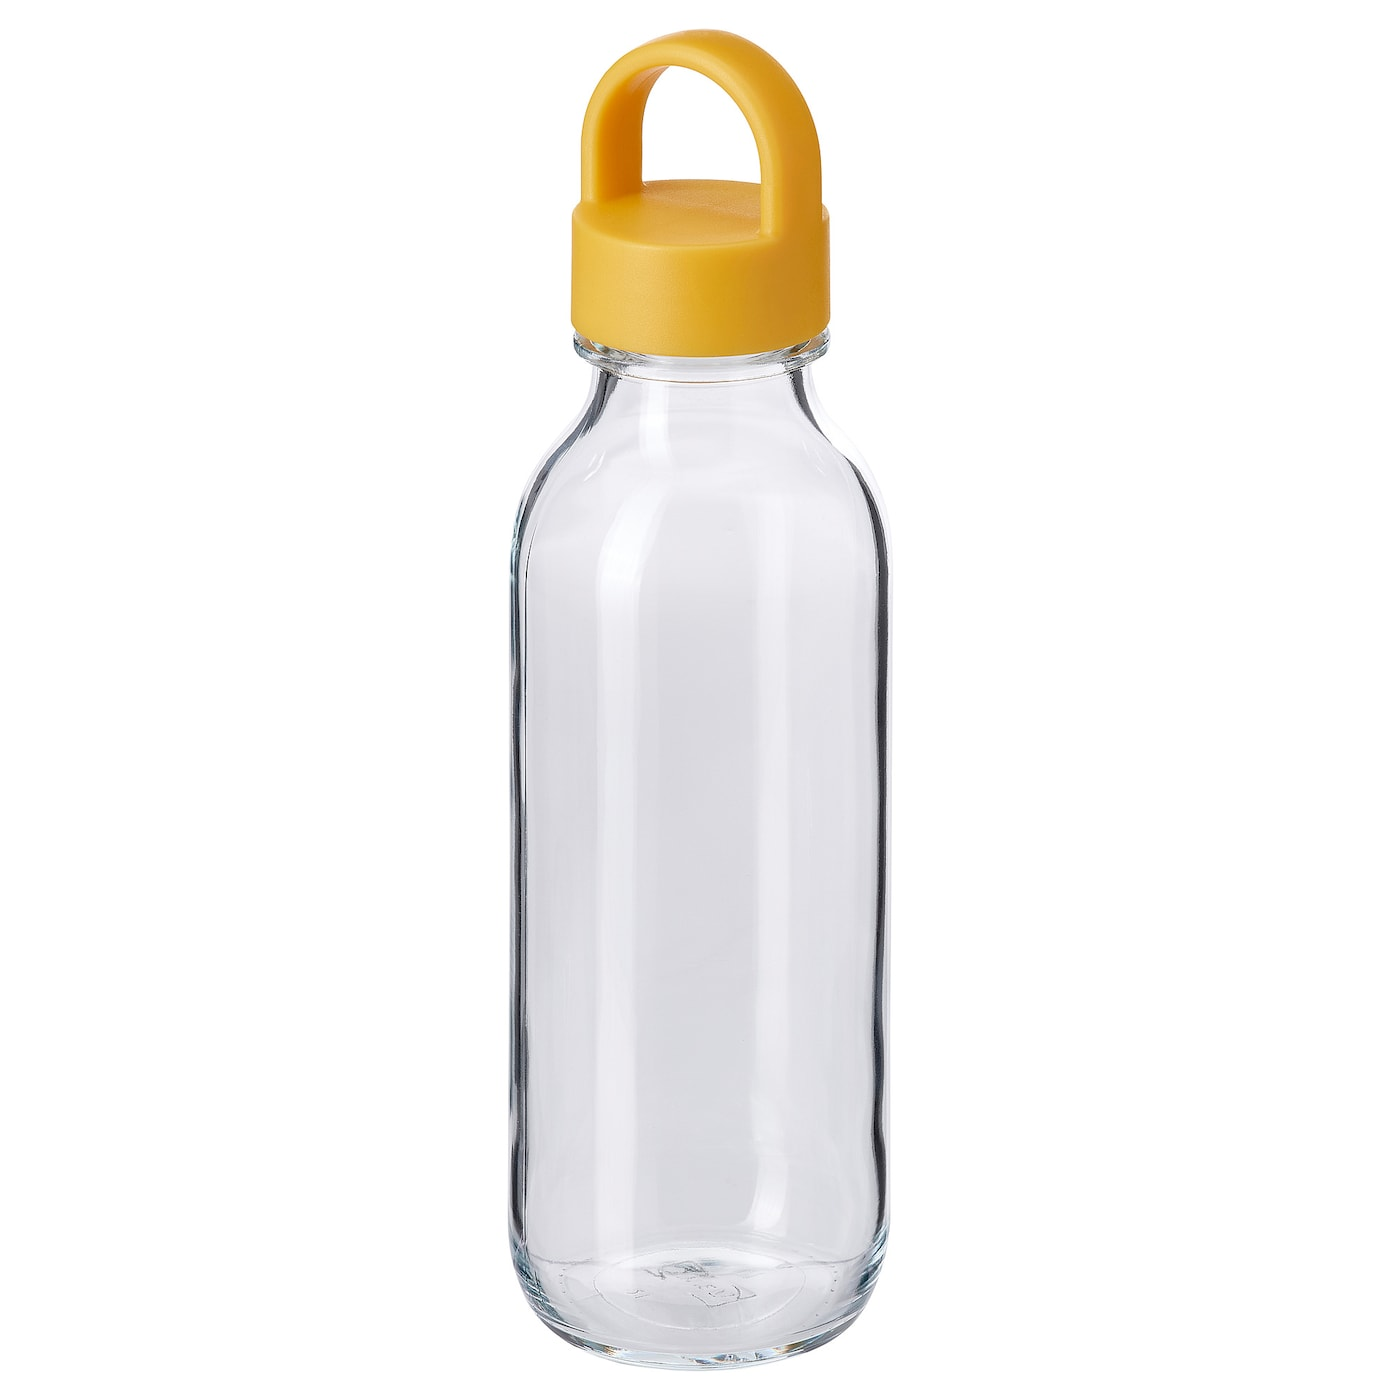bottle_cap: (544, 33, 871, 371)
water_bottle: (405, 71, 1054, 1377)
